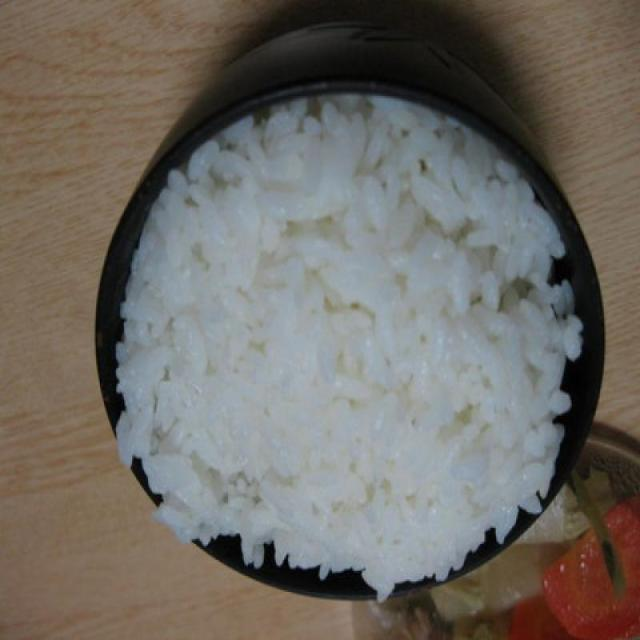nasi_putih: (118, 90, 585, 600)
